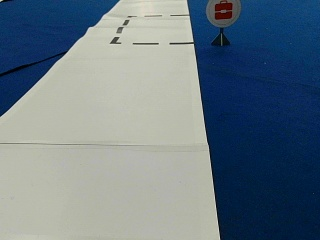company: (206, 0, 241, 26)
